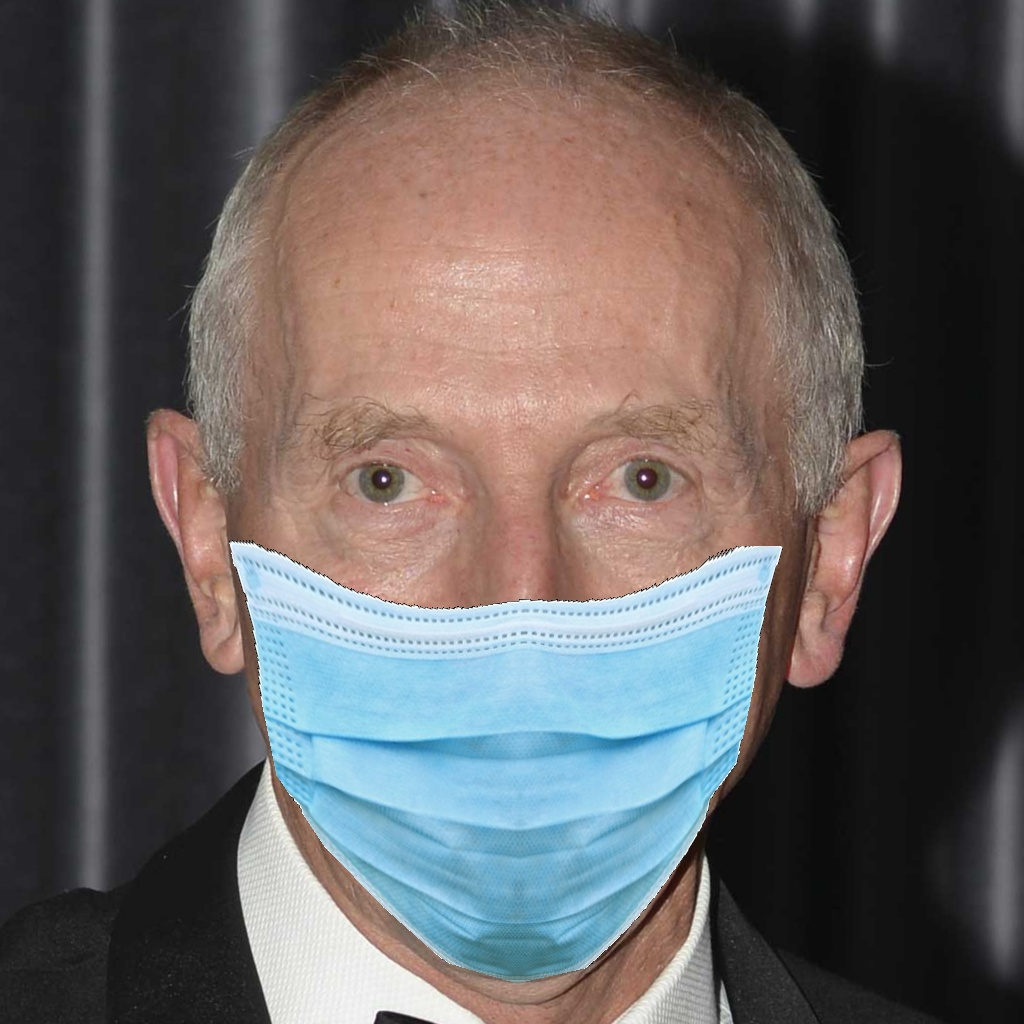Mask: (232, 351, 789, 990)
